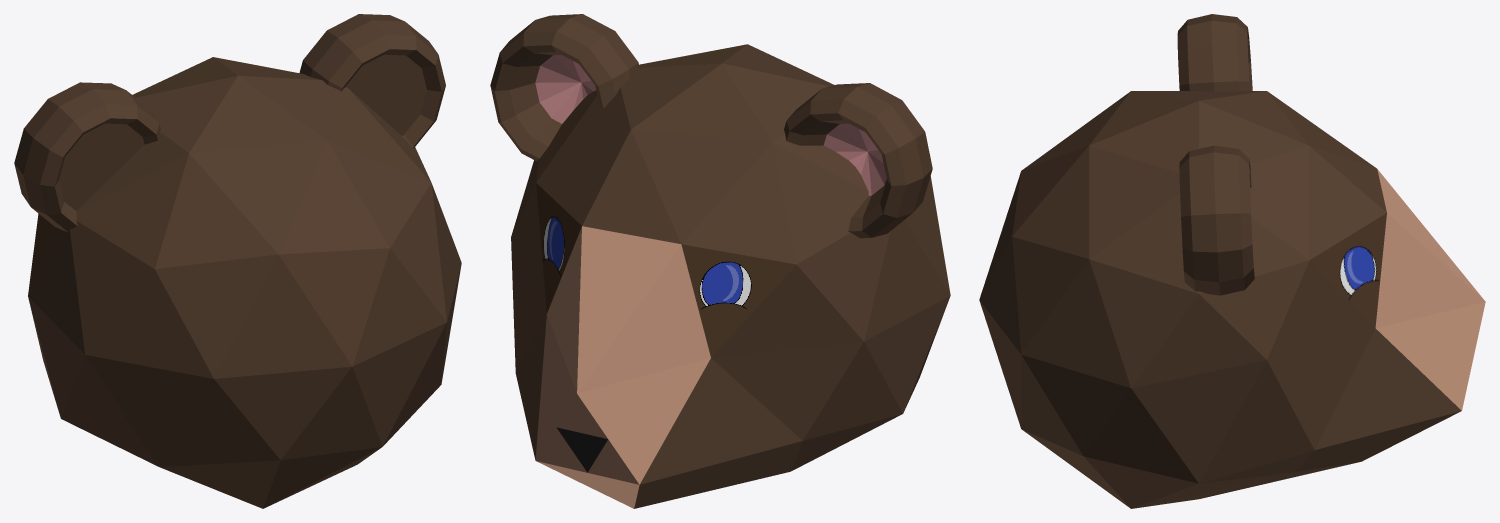
Rendered from bear2.glb.
The picture shows the model from 3 angles, left to right: view 1: azimuth 30°, elevation 25°; view 2: azimuth 150°, elevation 25°; view 3: azimuth 270°, elevation 25°; orthographic projection. The views are drawn at different scales.
Visible parts, largest first — view 1: head; view 2: head; view 3: head.
Boxes of the visible parts, <box> form: head: <box>14,14,461,508</box>; head: <box>490,14,950,508</box>; head: <box>979,14,1485,508</box>.
Bounding box in the file's own units: 2.09 × 2.08 × 2.3.
Materials: 6 (2 with a texture image).
